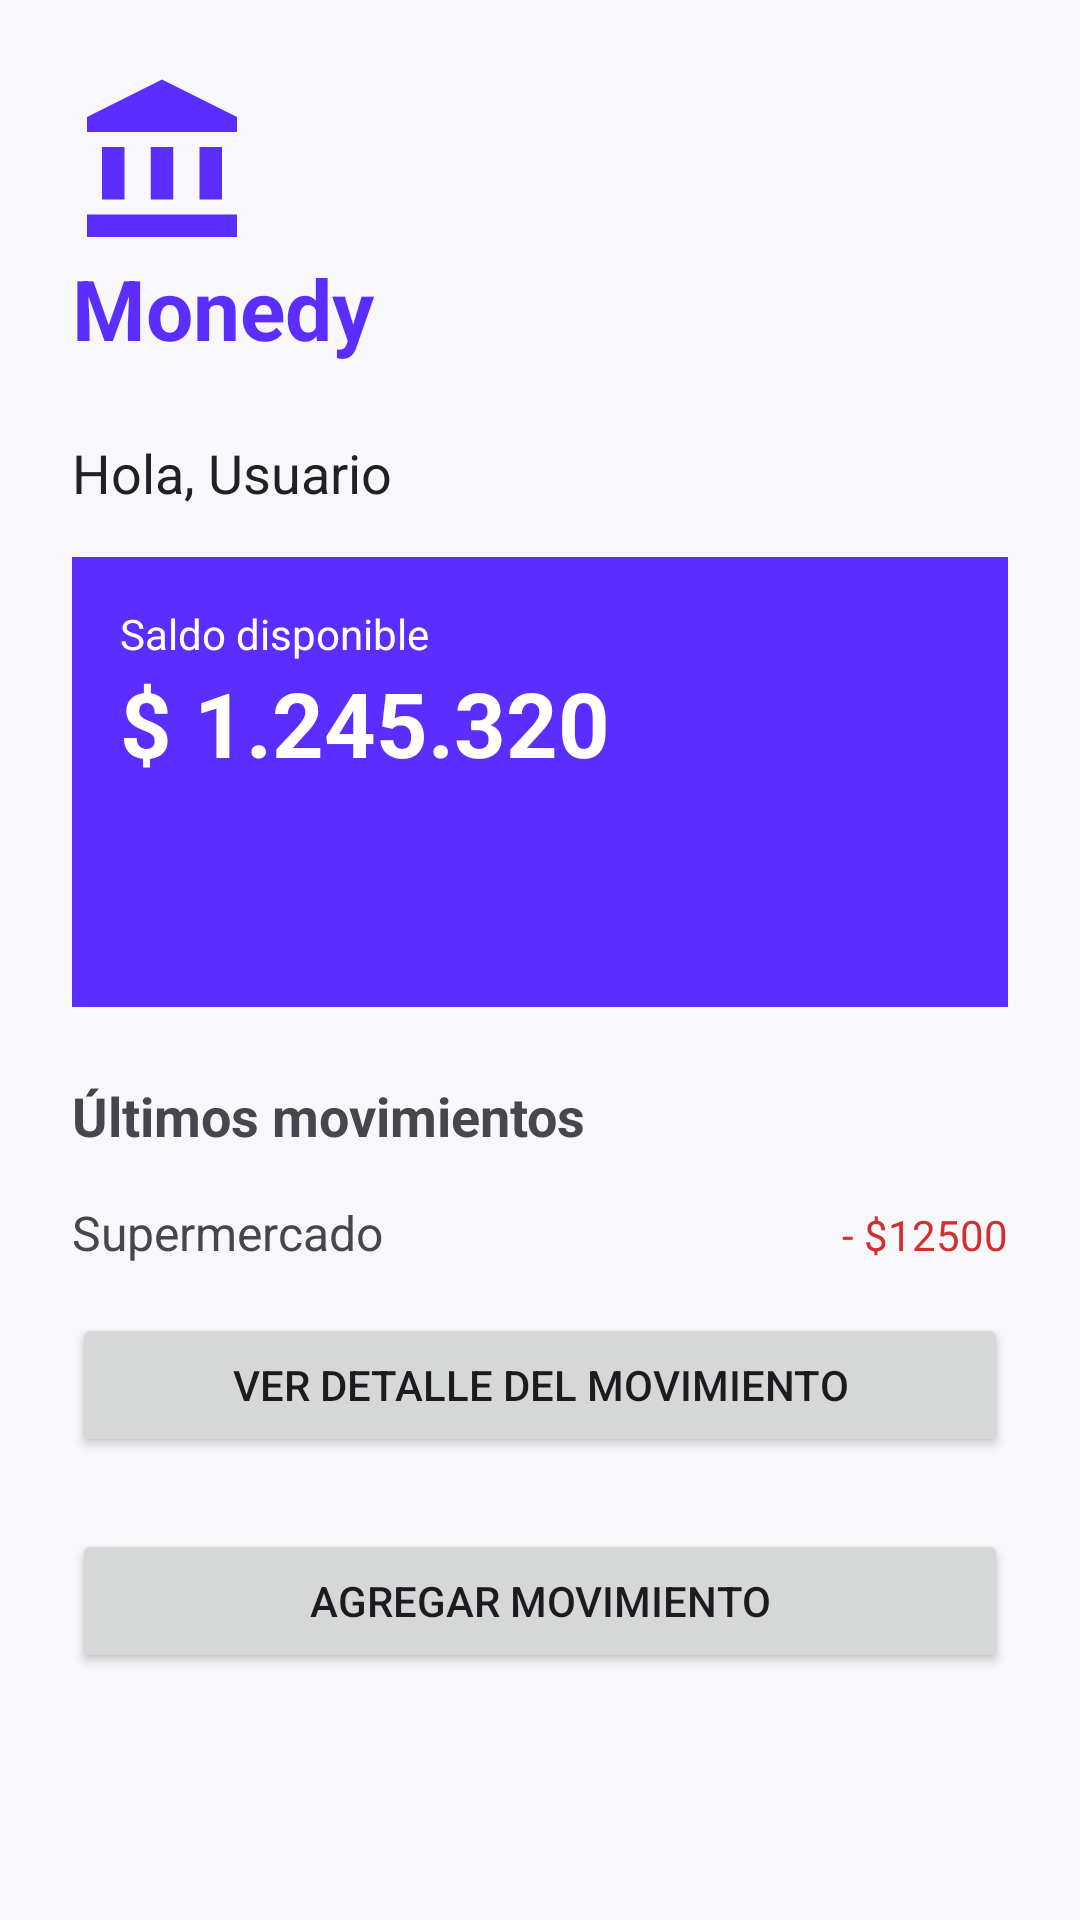

Icon click points for this 1080w x 1920h phone screenshot, format (x=x, y=y):
account balance: (x=162, y=158)
